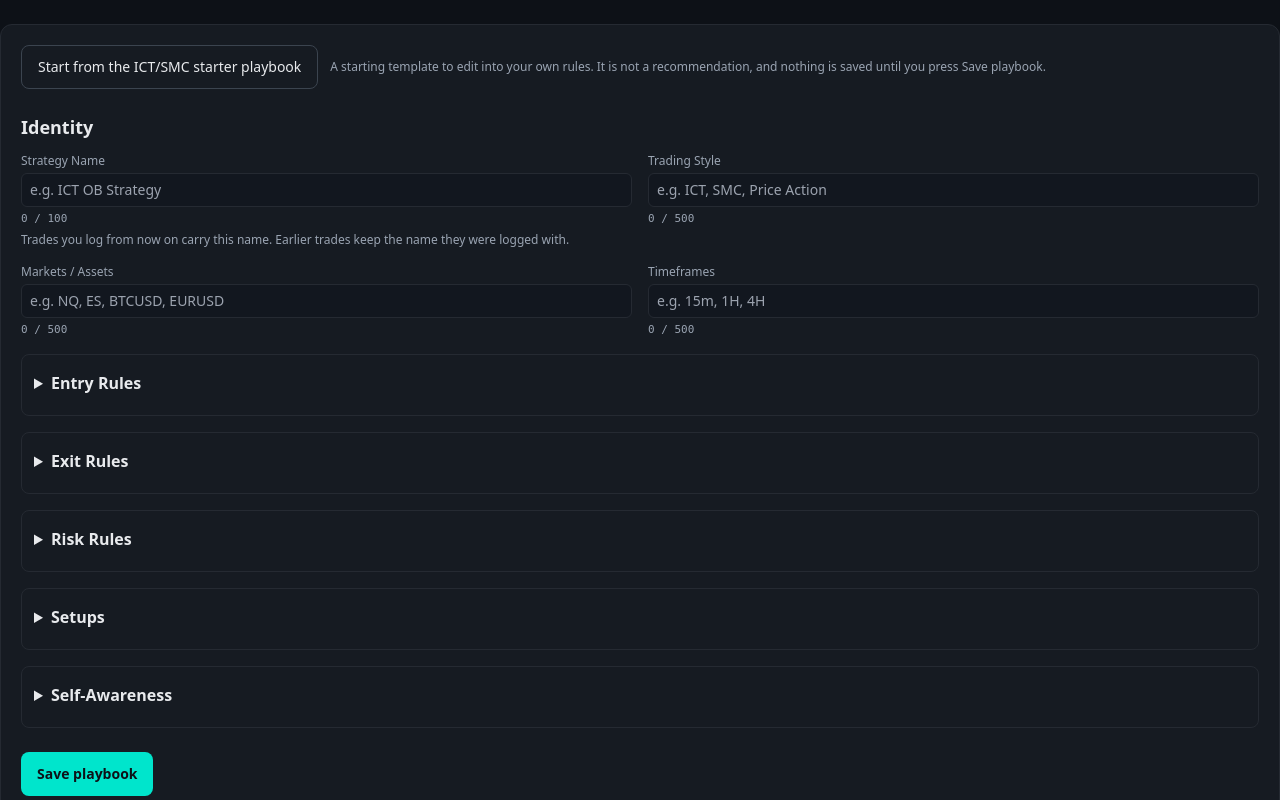
Test case: The starter playbook › fills the editor and sends nothing
Click the button "Start from the ICT/SMC starter playbook".
click(170, 67)  # box [21,45,318,89]
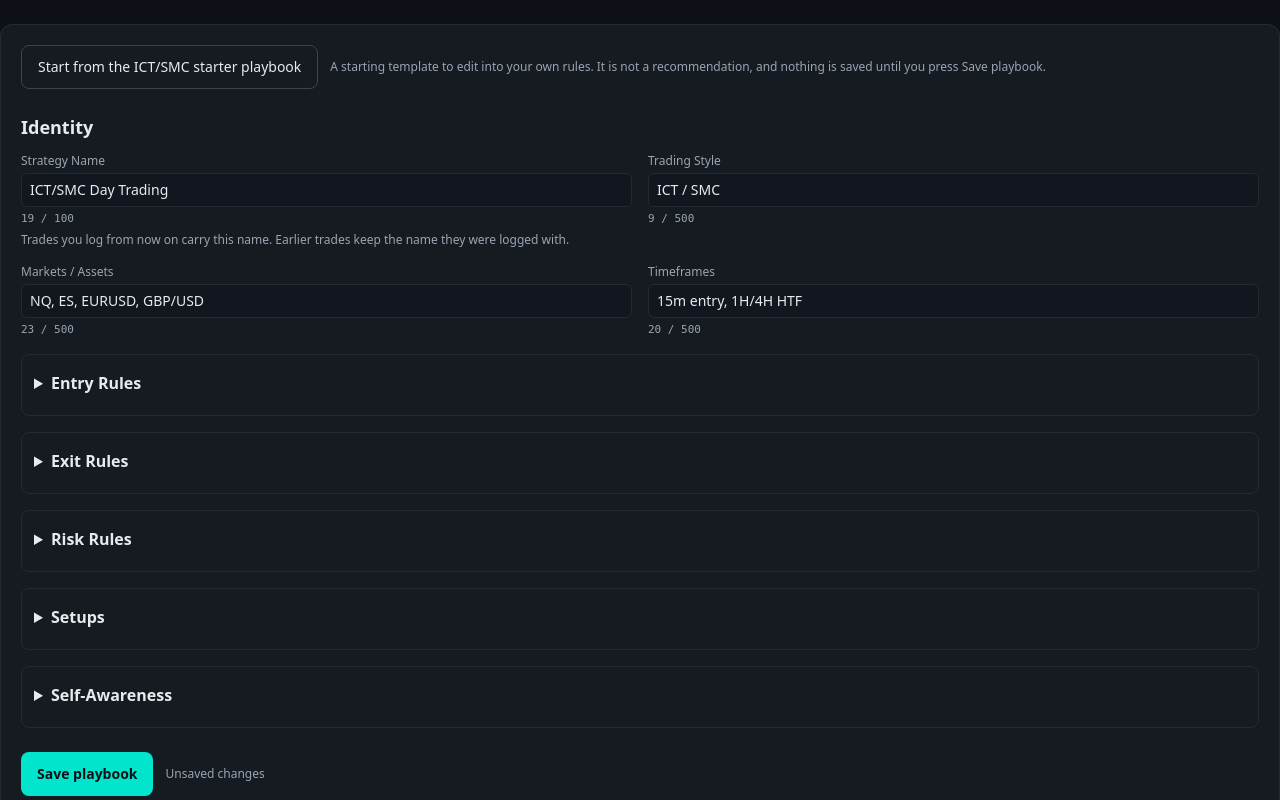
expect the field labelled "Strategy Name" holds "ICT/SMC Day Trading": met, box [21,173,632,207]
